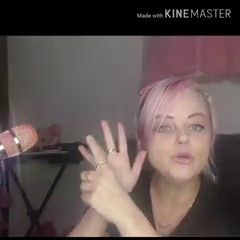U: (65, 114, 148, 222)
